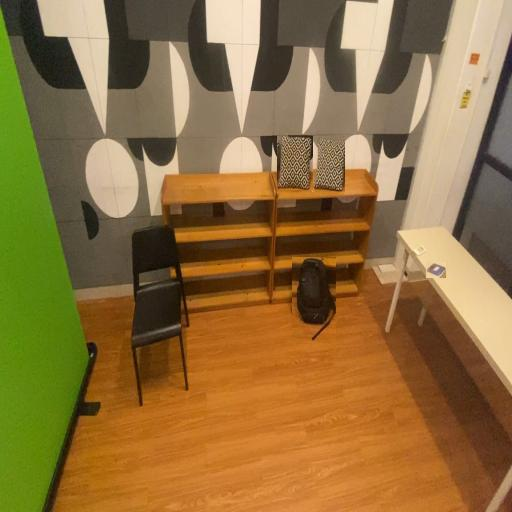bantal: (277, 134, 313, 192), (313, 136, 345, 192)
hp: (426, 262, 446, 278)
kursi: (128, 222, 192, 408)
lemari: (159, 170, 277, 318)
meja: (383, 223, 512, 512)
remote AC: (412, 243, 426, 259)
tas ransel: (292, 258, 336, 344)
